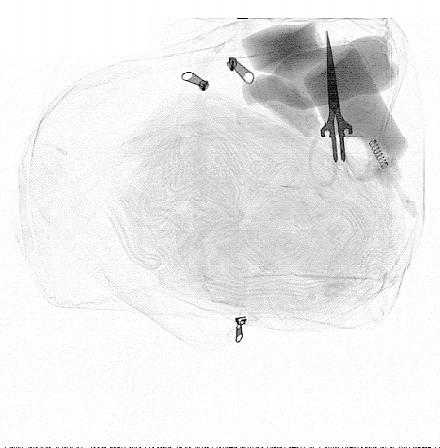Scissors: (309, 29, 375, 185)
